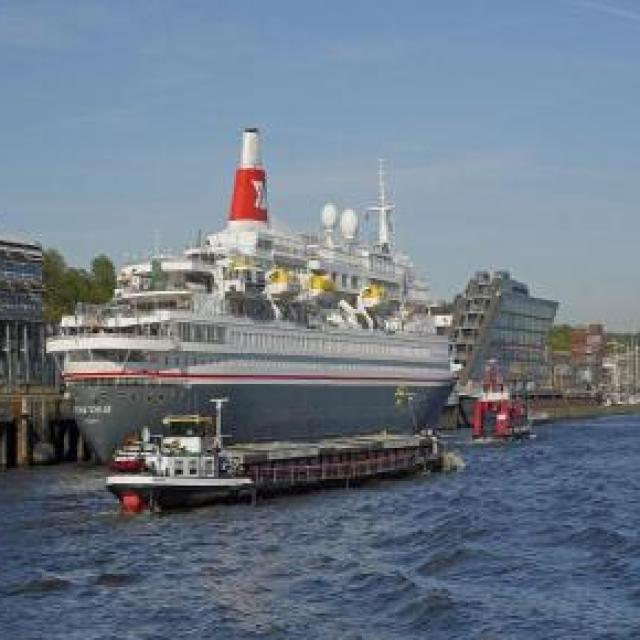cargoship: (105, 405, 456, 521)
passenger ship: (63, 220, 458, 455)
